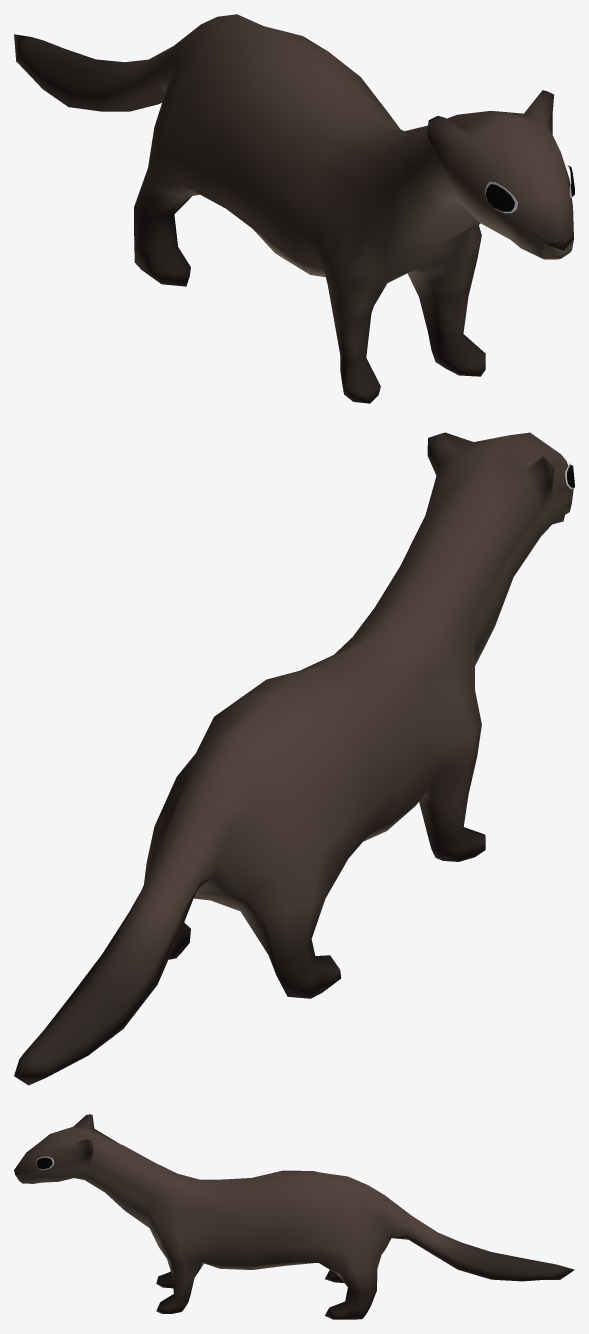
File: kit-otter.glb
3 views of the same model, one above another, from view 1: azimuth 30°, elevation 25°; view 2: azimuth 150°, elevation 25°; view 3: azimuth 270°, elevation 25° (orthographic). The views are drawn at different scales.
Visible parts, largest first — view 1: base; view 2: base; view 3: base.
Part boxes in pixels (x1,y1,x2,y2): base: (14, 14, 574, 403); base: (14, 432, 574, 1085); base: (14, 1114, 574, 1319).
Size of the model in its own units: 0.181 by 0.316 by 0.943.
